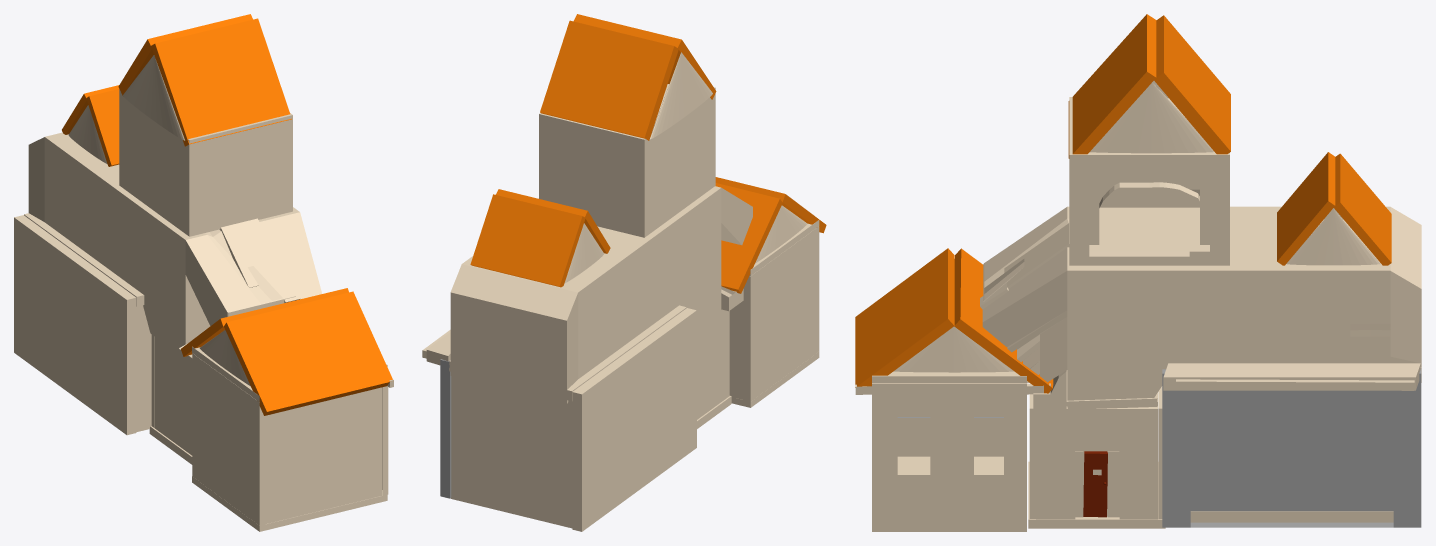
Rendered from Casa projeto.fbx.
3 renders of one model, left to right at view 1: azimuth 30°, elevation 25°; view 2: azimuth 150°, elevation 25°; view 3: azimuth 270°, elevation 25°, orthographic. The views are drawn at different scales.
Parts seen in each view (by area): view 1: Telhado principal, Cube.020, Quarto cima, Telhado, Cube, Telhado garageem.001, Cube.007, Cube.013, Telhado garageem, Garagem 2.001, Cube.016, Cube.009 (+5 smaller); view 2: Telhado principal, Cube.020, Quarto cima, Cube.017, Telhado garageem.001, Cube.007, Telhado garageem, Telhado, Cube.013, Garagem 2.001, Cube.021, Cube.001 (+5 smaller); view 3: Telhado principal, Cube.021, Cube.002, Quarto cima, Telhado garageem.001, Telhado, Cube.012, Telhado garageem, Garagem 1.001, Telhado compl. 2, Garagem 1, Cube.006 (+10 smaller).
Part boxes in pixels (x1,y1,x2,y2): Telhado principal: (28,132,322,371); Cube.020: (14,215,136,435); Quarto cima: (119,89,292,236); Telhado: (181,288,392,415); Cube: (265,387,381,523); Telhado garageem.001: (118,14,291,146); Cube.007: (192,353,265,525); Cube.013: (154,337,192,455); Telhado garageem: (62,85,119,166); Garagem 2.001: (123,55,184,140); Cube.016: (136,305,151,432); Cube.009: (192,476,387,531); Telhado principal: (426,186,752,404); Cube.020: (572,308,696,531); Quarto cima: (539,84,715,237); Cube.017: (450,376,572,528); Telhado garageem.001: (540,14,716,140); Cube.007: (744,226,819,401); Telhado garageem: (470,189,610,287); Telhado: (715,177,826,293); Cube.013: (697,309,726,419); Garagem 2.001: (649,52,712,139); Cube.021: (440,359,451,498); Cube.001: (729,287,744,399); Telhado principal: (980,206,1421,409); Cube.021: (1162,369,1421,527); Cube.002: (872,383,1026,525); Quarto cima: (1069,97,1229,265); Telhado garageem.001: (1068,14,1230,158); Telhado: (855,248,1053,393); Cube.012: (1036,406,1157,519); Telhado garageem: (1277,152,1391,265); Garagem 1.001: (1090,82,1214,153); Telhado compl. 2: (893,326,1029,383); Garagem 1: (1286,209,1380,265); Cube.006: (1176,379,1414,390).
Bounding box in the file's own units: 863 × 2048 × 2308.
